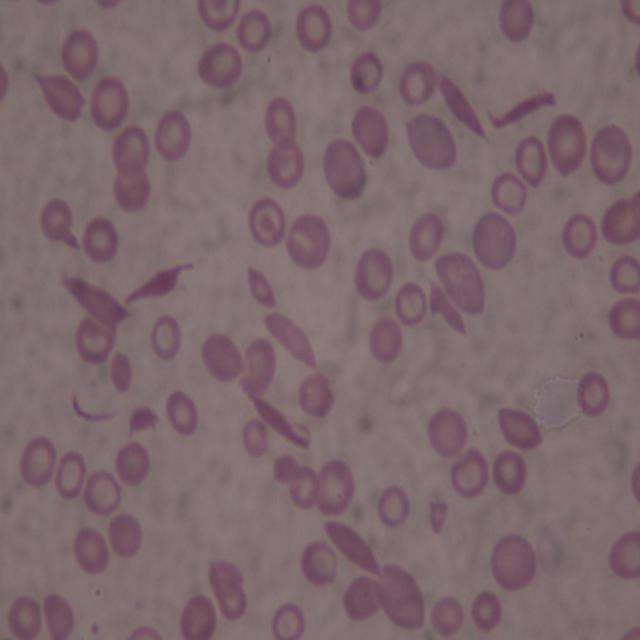Normal: (548, 114, 584, 179), (59, 26, 100, 80), (450, 443, 489, 499), (316, 458, 354, 515), (91, 76, 129, 131), (20, 434, 57, 488), (155, 107, 191, 159), (407, 212, 444, 262), (74, 526, 111, 574), (296, 1, 330, 52), (83, 472, 120, 518), (400, 63, 438, 107), (491, 449, 528, 494), (263, 96, 296, 146), (82, 215, 118, 260), (609, 528, 638, 583), (6, 594, 42, 638), (490, 172, 528, 213), (430, 593, 463, 640), (166, 392, 198, 438), (578, 371, 609, 418), (54, 452, 85, 498), (238, 8, 271, 51), (151, 315, 182, 360), (377, 484, 410, 526), (289, 465, 319, 509), (610, 298, 640, 341), (273, 599, 304, 638), (609, 252, 639, 292), (471, 593, 502, 631), (346, 0, 381, 31), (619, 1, 640, 35)
Others: (374, 562, 427, 630), (29, 69, 88, 126), (433, 252, 485, 314), (404, 111, 458, 168), (322, 138, 368, 203), (489, 531, 538, 591), (588, 122, 633, 187), (473, 211, 520, 270), (287, 213, 332, 272), (496, 407, 544, 453), (200, 332, 243, 382), (601, 191, 640, 245), (237, 338, 274, 394), (352, 102, 388, 159), (342, 574, 382, 624), (199, 42, 242, 88), (114, 162, 152, 214), (428, 406, 466, 458), (75, 317, 117, 364), (354, 248, 392, 299), (266, 140, 305, 189), (113, 128, 151, 178), (299, 539, 338, 587), (208, 574, 248, 620), (297, 374, 334, 419), (559, 214, 598, 256), (368, 318, 403, 364), (178, 595, 215, 638), (391, 281, 427, 325), (117, 439, 149, 488), (514, 137, 546, 186), (108, 512, 142, 557), (42, 592, 74, 638), (499, 2, 535, 42), (349, 51, 384, 92), (40, 197, 72, 240), (127, 404, 160, 439), (211, 557, 245, 589), (242, 417, 267, 458), (110, 353, 132, 394), (271, 454, 300, 482), (57, 221, 82, 252), (427, 501, 450, 531), (126, 624, 164, 640), (629, 459, 640, 505), (0, 61, 8, 103), (619, 624, 638, 640), (93, 0, 123, 10), (630, 43, 638, 76)
Sickle: (434, 70, 492, 142), (59, 273, 131, 329), (246, 390, 313, 450), (321, 519, 384, 579), (262, 309, 320, 374), (120, 258, 193, 308), (486, 88, 556, 127), (426, 278, 469, 337), (70, 392, 120, 421), (247, 263, 277, 310)
Target: (246, 198, 286, 245), (197, 0, 240, 30)
